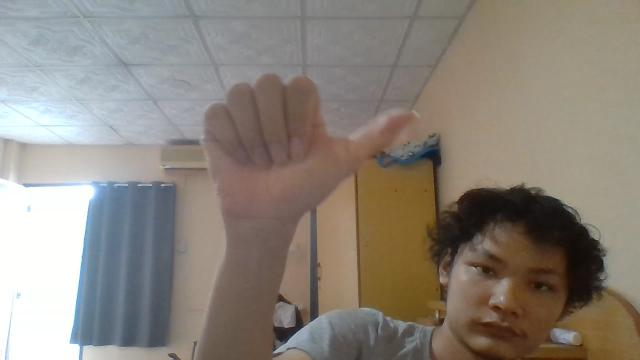left: (201, 72, 417, 224)
